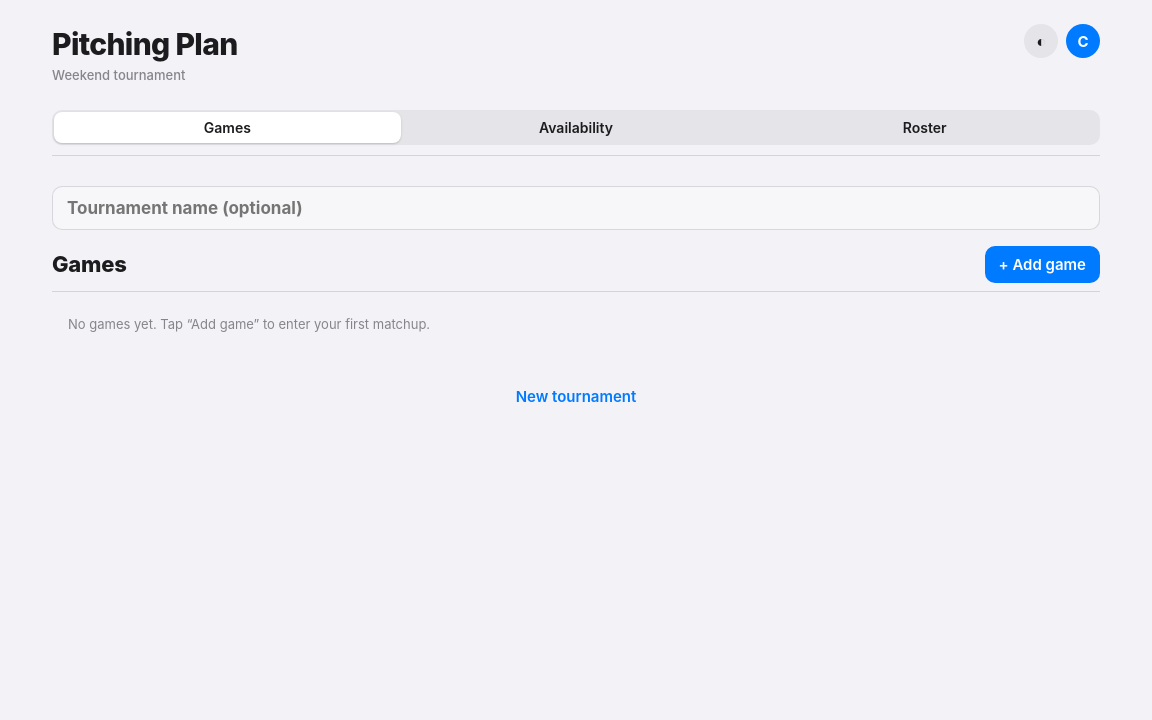
Test: tournament app › shows the three tabs and the seeded, editable roster
Check: the tab "Games" is shown, box [54, 112, 401, 143]
Check: the tab "Availability" is shown, box [403, 112, 749, 143]
Click the tab "Roster" at (925, 128), box [751, 112, 1098, 143]
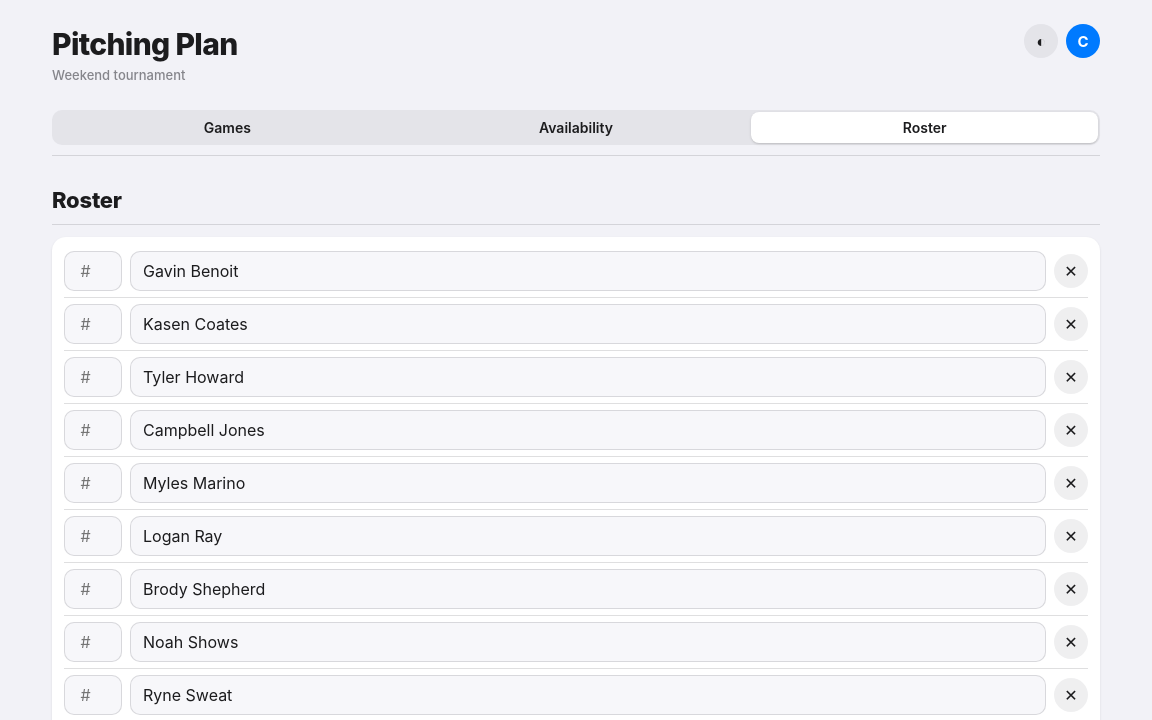
Check: the 4th field showing "Campbell Jones" is shown, box [130, 410, 1046, 450]
